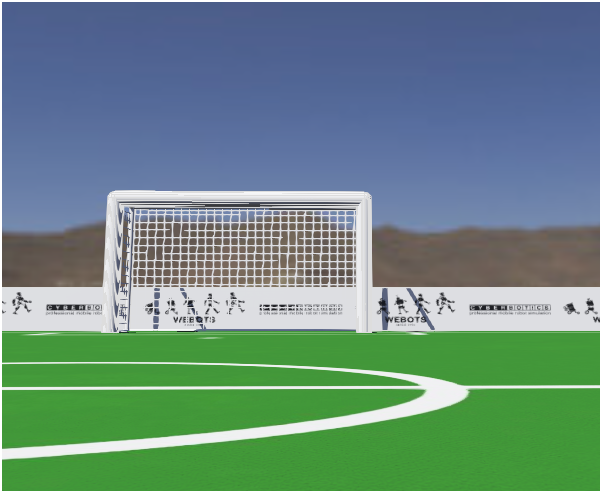Goal: (83, 176, 431, 362)
